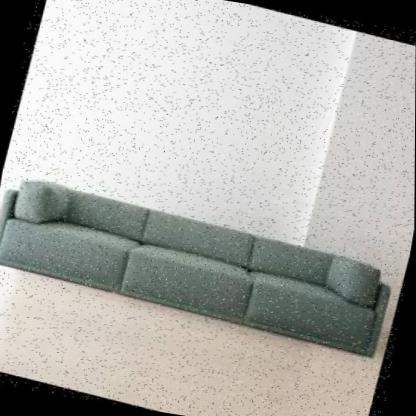Sofa: (0, 154, 414, 374)
